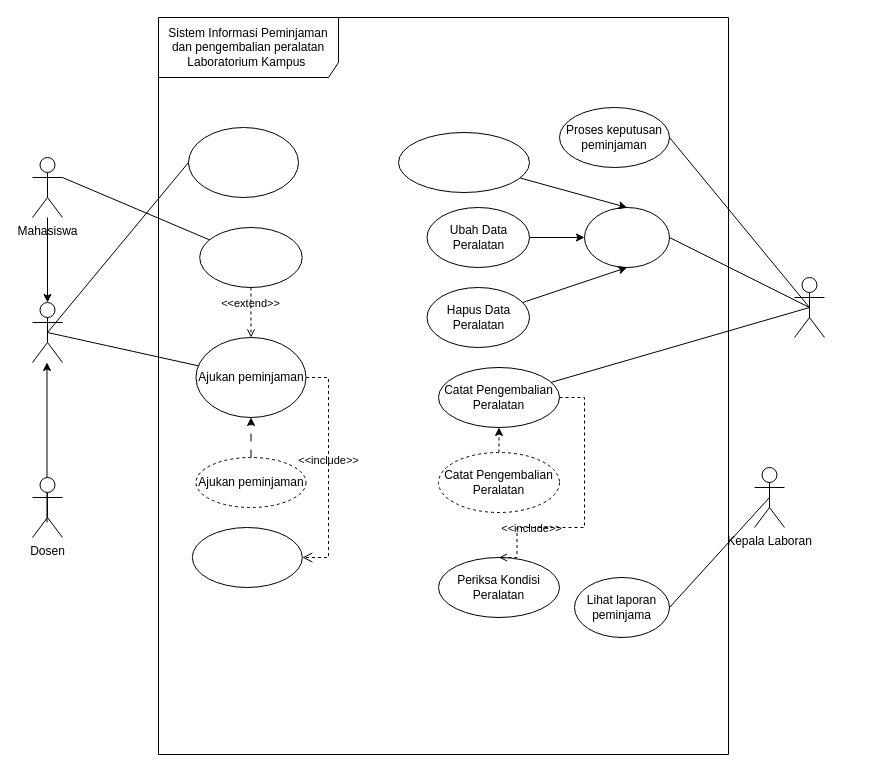
This 872x772 diagram has some shape labels left out. The shapes that lost their labels are listed below. From the top down, each one's centre as x and y in pixels, then its label:
(243,162): Lihat ketersediaan dalam peralatan
(464,162): Tambah Data Peralatan
(250,257): Cetak bukti pengajuan
(627,237): Kelola data peralatan
(809,307): Petugas Laboran
(47,332): Peminjam
(246,557): Periksa Ketersediaan
